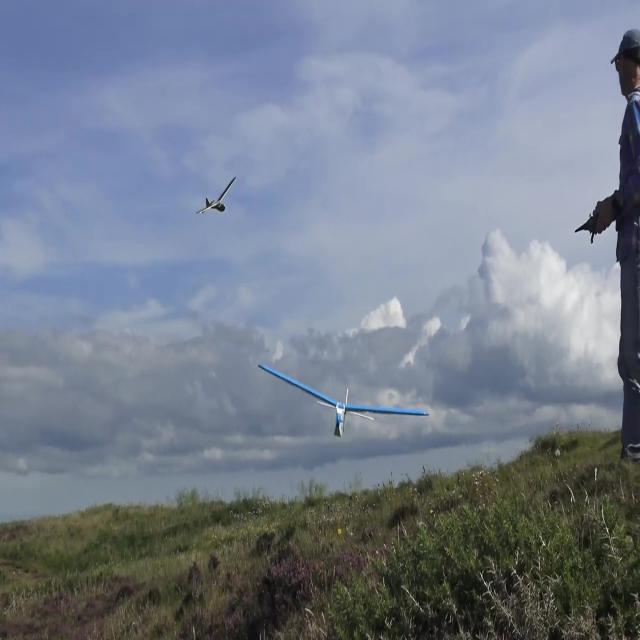iha: (259, 394, 430, 406), (195, 176, 237, 215)
